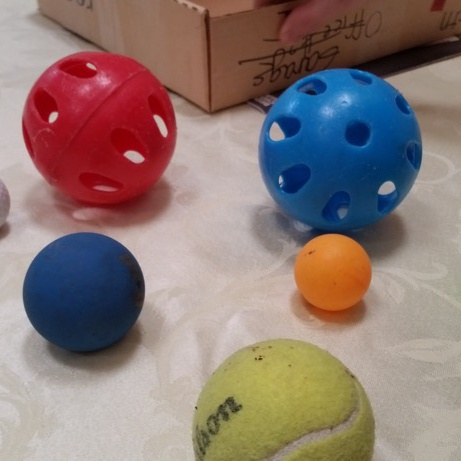ball: (252, 61, 430, 238), (17, 47, 182, 212)
